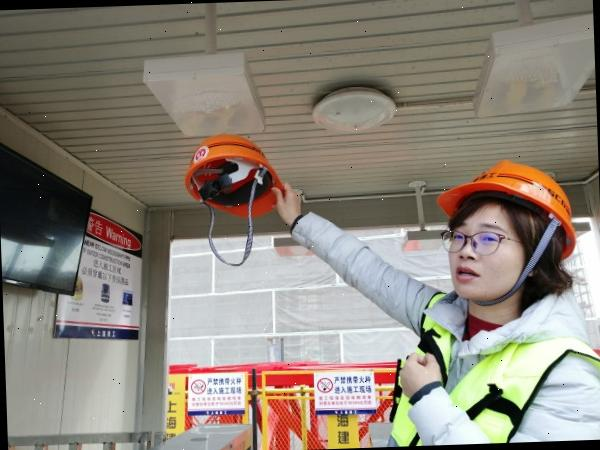helmet: (433, 154, 580, 264), (174, 128, 286, 219)
wear: (392, 294, 600, 447)
